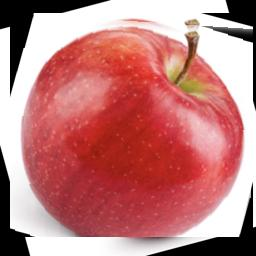Apple Fresh: (10, 13, 253, 237)
